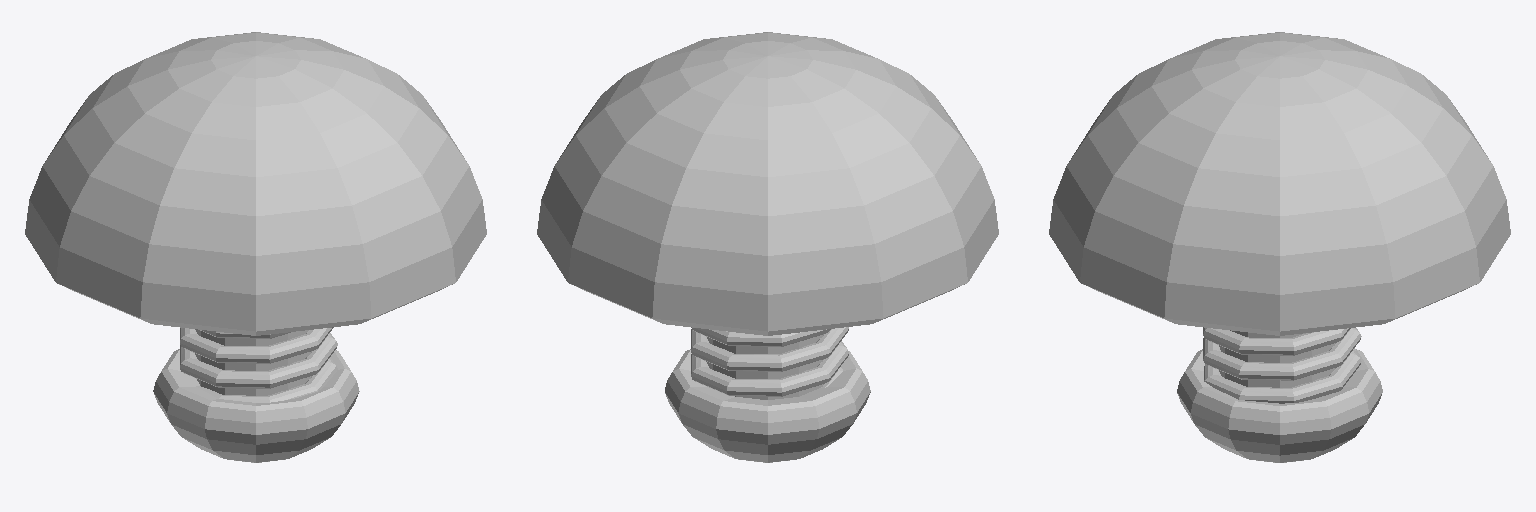
File: spring.obj
The picture shows the model from 3 angles: view 1: azimuth 30°, elevation 25°; view 2: azimuth 150°, elevation 25°; view 3: azimuth 270°, elevation 25°; orthographic projection.
Bounding box in the file's own units: 7.92 × 7.55 × 7.92.